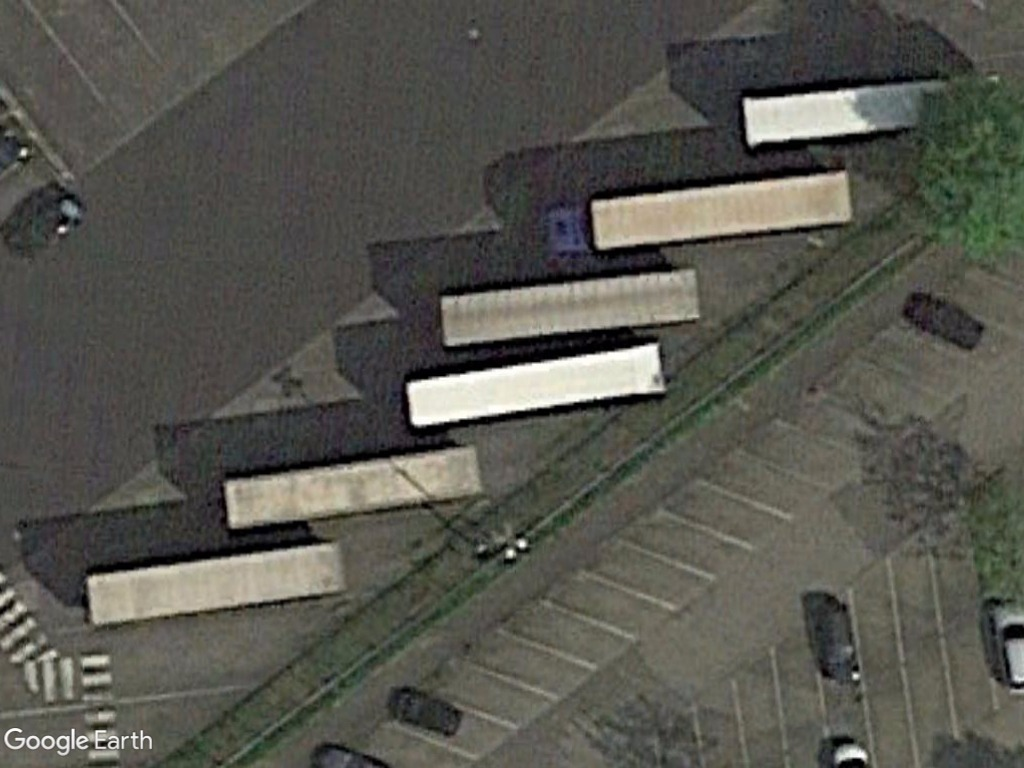longvehicle: (397, 340, 667, 439), (79, 533, 358, 628), (432, 266, 704, 357), (216, 443, 488, 534), (585, 166, 861, 255), (731, 67, 1001, 152)
